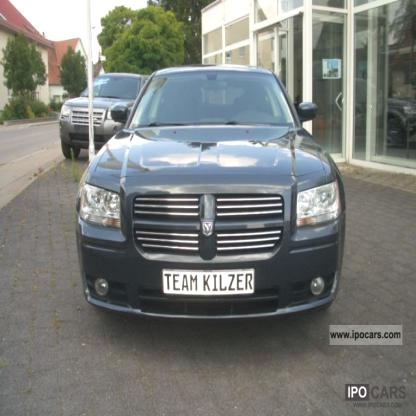Vehicle: (75, 60, 345, 328)
